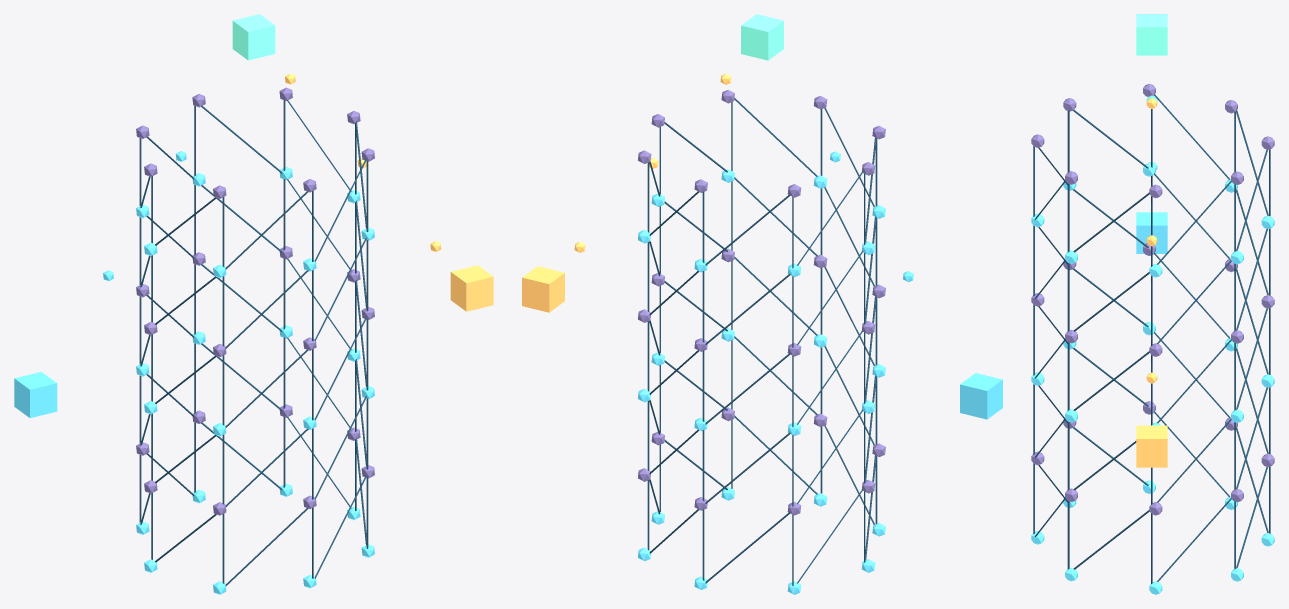
Rendered from neural_lab.glb.
The picture shows the model from 3 angles, left to right: view 1: azimuth 30°, elevation 25°; view 2: azimuth 150°, elevation 25°; view 3: azimuth 270°, elevation 25°; orthographic projection.
Parts seen in each view (by area): view 1: Sampled structural connections, Emotion mean, Unit contrast, Neutral mean; view 2: Sampled structural connections, Neutral mean, Emotion mean, Unit contrast; view 3: Sampled structural connections, Emotion mean, Unit contrast, Neutral mean.
Part boxes in pixels (left/top/right/bottom): Sampled structural connections: left=139, top=100, right=368, bottom=586; Emotion mean: left=450, top=265, right=493, bottom=311; Unit contrast: left=232, top=14, right=275, bottom=60; Neutral mean: left=14, top=372, right=57, bottom=418; Sampled structural connections: left=647, top=98, right=877, bottom=585; Neutral mean: left=960, top=373, right=1002, bottom=419; Emotion mean: left=522, top=266, right=564, bottom=312; Unit contrast: left=741, top=14, right=783, bottom=60; Sampled structural connections: left=1033, top=94, right=1270, bottom=583; Emotion mean: left=1136, top=425, right=1167, bottom=467; Unit contrast: left=1136, top=14, right=1167, bottom=55; Neutral mean: left=1136, top=212, right=1167, bottom=253.
Bounding box in the file's own units: 4.78 × 5.16 × 2.17.
